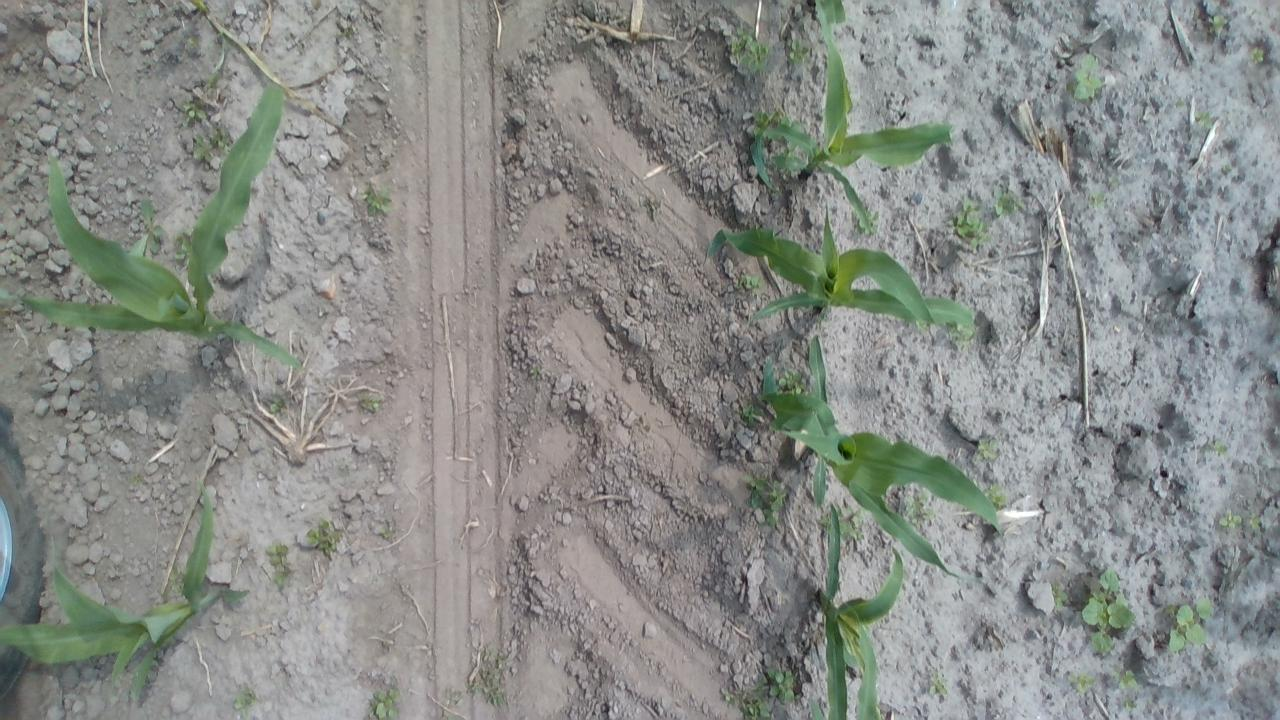Maize: (0, 82, 311, 378), (753, 333, 1006, 587), (0, 472, 253, 712), (746, 0, 957, 233), (701, 204, 982, 336), (804, 499, 908, 720)
Weeds: (1078, 567, 1142, 663), (715, 660, 799, 720), (465, 640, 515, 712), (121, 198, 170, 268), (1164, 590, 1212, 660), (746, 473, 790, 531), (1064, 50, 1110, 103), (187, 122, 236, 169), (726, 28, 772, 78), (949, 200, 990, 249), (260, 540, 297, 592), (304, 516, 346, 560), (772, 366, 812, 400), (360, 180, 394, 220), (366, 683, 402, 720), (900, 490, 938, 525), (154, 562, 187, 600), (230, 683, 262, 720), (355, 384, 393, 415), (946, 308, 979, 343), (839, 508, 868, 546), (754, 107, 802, 129), (991, 190, 1026, 220), (785, 33, 811, 72), (736, 400, 770, 429), (180, 94, 210, 126), (1046, 574, 1071, 608), (1066, 668, 1097, 695), (974, 434, 1002, 463), (982, 483, 1009, 512), (926, 668, 950, 700), (854, 207, 882, 234), (1115, 664, 1142, 692), (1204, 437, 1232, 463), (1216, 508, 1246, 532), (640, 197, 666, 224), (172, 236, 194, 267), (438, 687, 464, 713), (733, 270, 763, 292), (374, 521, 398, 543), (1192, 109, 1214, 132), (268, 396, 292, 416), (1248, 44, 1267, 68), (1208, 14, 1228, 36), (1245, 510, 1265, 532), (1122, 696, 1144, 714), (1104, 172, 1122, 192), (1086, 190, 1105, 208), (528, 367, 546, 385), (1219, 158, 1235, 174), (1172, 98, 1186, 110)
